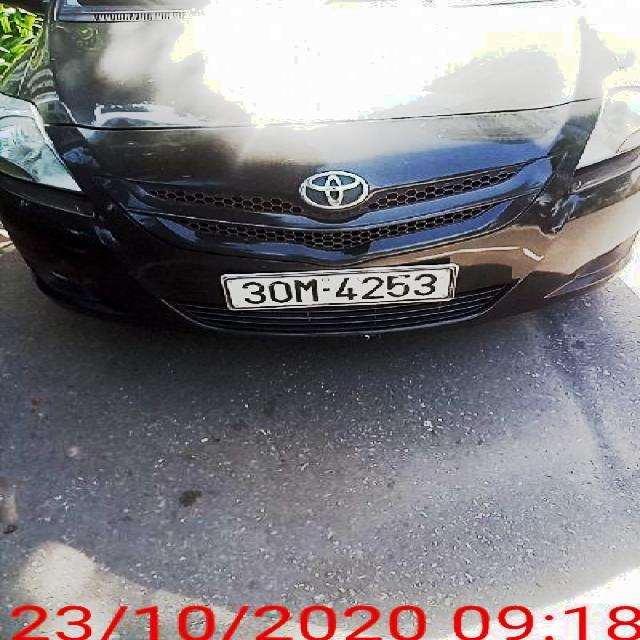license_plate: (228, 268, 456, 310)
